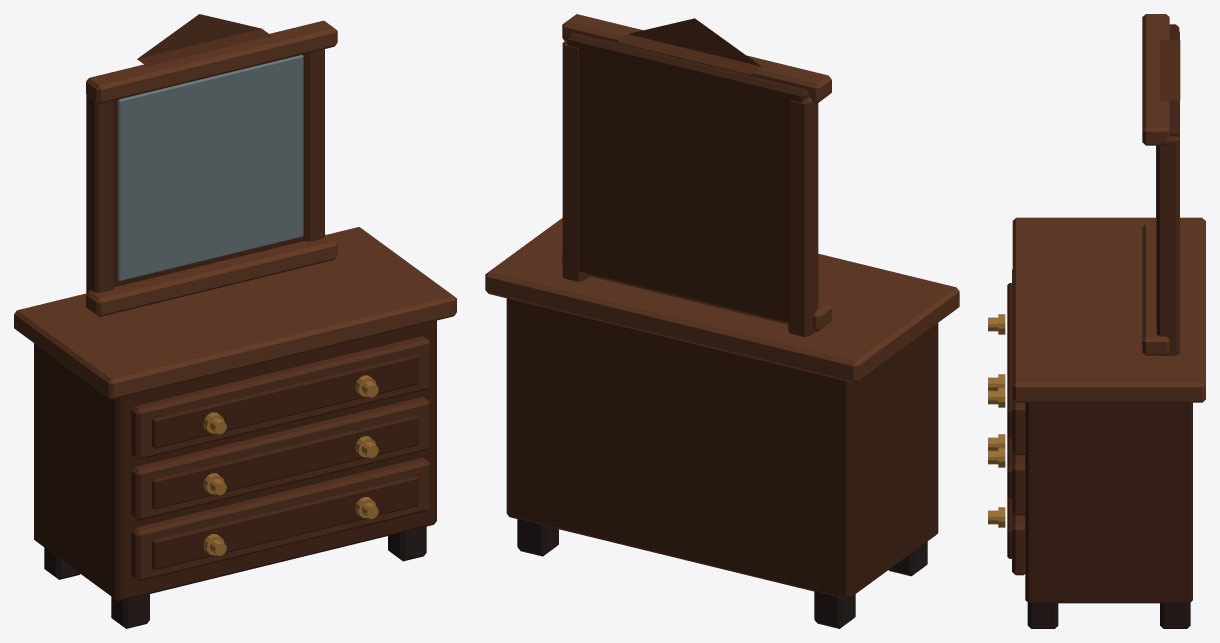
The model's file is DresserMirror.glb.
The picture shows the model from 3 angles, left to right: view 1: azimuth 30°, elevation 25°; view 2: azimuth 150°, elevation 25°; view 3: azimuth 270°, elevation 25°; orthographic projection. The views are drawn at different scales.
Parts seen in each view (by area): view 1: DresserTop, MirrorFace, DresserBody, Drawer_00, Drawer_02, Drawer_01, DrawerInset.002, DrawerInset.001, DrawerInset, MirrorRail.001, MirrorRail, MirrorUpright (+5 smaller); view 2: DresserBody, MirrorBacking, DresserTop, MirrorUpright, MirrorUpright.001, MirrorCrest, MirrorRail.001, DresserFoot.001, DresserFoot.003, MirrorRail, DresserFoot; view 3: DresserBody, DresserTop, MirrorUpright.001, MirrorRail.001, MirrorRail, MirrorCrest, Drawer_02, Drawer_01, Drawer_00, DresserFoot.002, DresserFoot.003, DrawerInset.002 (+1 smaller).
Boxes of the visible parts, x1,y1,x2,y2 form: DresserTop: (14,227,456,399); MirrorFace: (118,55,303,281); DresserBody: (34,320,436,601); Drawer_00: (131,457,430,581); Drawer_02: (131,336,430,459); Drawer_01: (131,397,430,520); DrawerInset.002: (152,354,418,448); DrawerInset.001: (152,415,418,509); DrawerInset: (152,475,418,569); MirrorRail.001: (86,20,337,103); MirrorRail: (86,234,337,316); MirrorUpright: (86,94,113,293); DresserBody: (506,298,938,599); MirrorBacking: (566,32,809,323); DresserTop: (485,218,959,383); MirrorUpright: (788,96,818,336); MirrorUpright.001: (562,40,589,281); MirrorCrest: (617,18,761,74); MirrorRail.001: (562,14,831,103); DresserFoot.001: (814,591,855,628); DresserFoot.003: (517,519,558,556); MirrorRail: (562,253,831,331); DresserFoot: (889,541,927,576); DresserBody: (1025,402,1192,603); DresserTop: (1012,217,1205,402); MirrorUpright.001: (1156,133,1179,355); MirrorRail.001: (1142,14,1169,145); MirrorRail: (1142,224,1169,355); MirrorCrest: (1160,40,1180,100); Drawer_02: (1012,269,1025,455); Drawer_01: (1012,452,1025,515); Drawer_00: (1012,512,1025,575); DresserFoot.002: (1027,602,1058,628); DresserFoot.003: (1160,602,1190,628); DrawerInset.002: (1007,283,1011,438).
Size of the model in its own units: 3.9 by 5.6 by 2.14.
